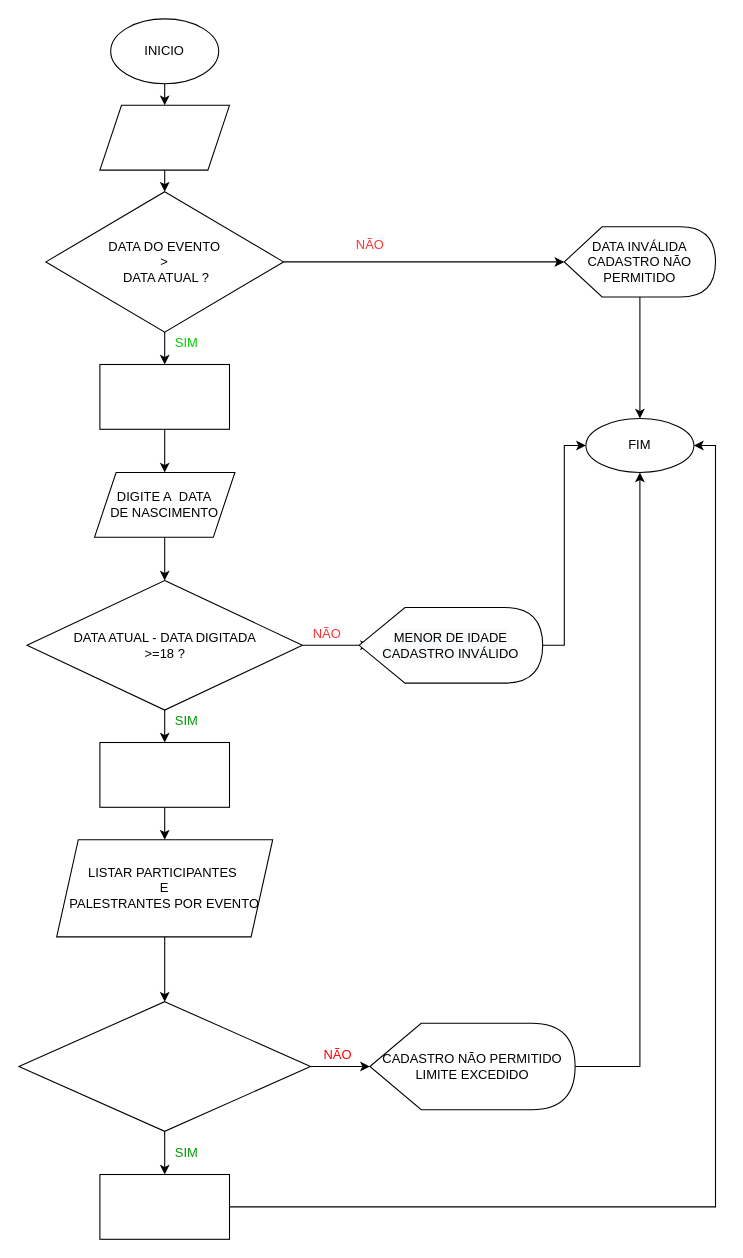
Some shapes in this 743 by 1258 pixel diagram are drawn without their labels. The shapes that lost their labels are listed below. From the top down, each one's centre as x and y in pixels, then its label:
the point at 164,137: DIGITE A DATA DO EVENTO
the point at 164,396: EVENTO PERMITIDO
the point at 164,774: PERMITIR CADASTRO
the point at 164,1066: NÚMERO PARTICIPANTES < 100
the point at 164,1206: CADASTRO REALIZADO. NUMERO DE PARTICIPTES++
